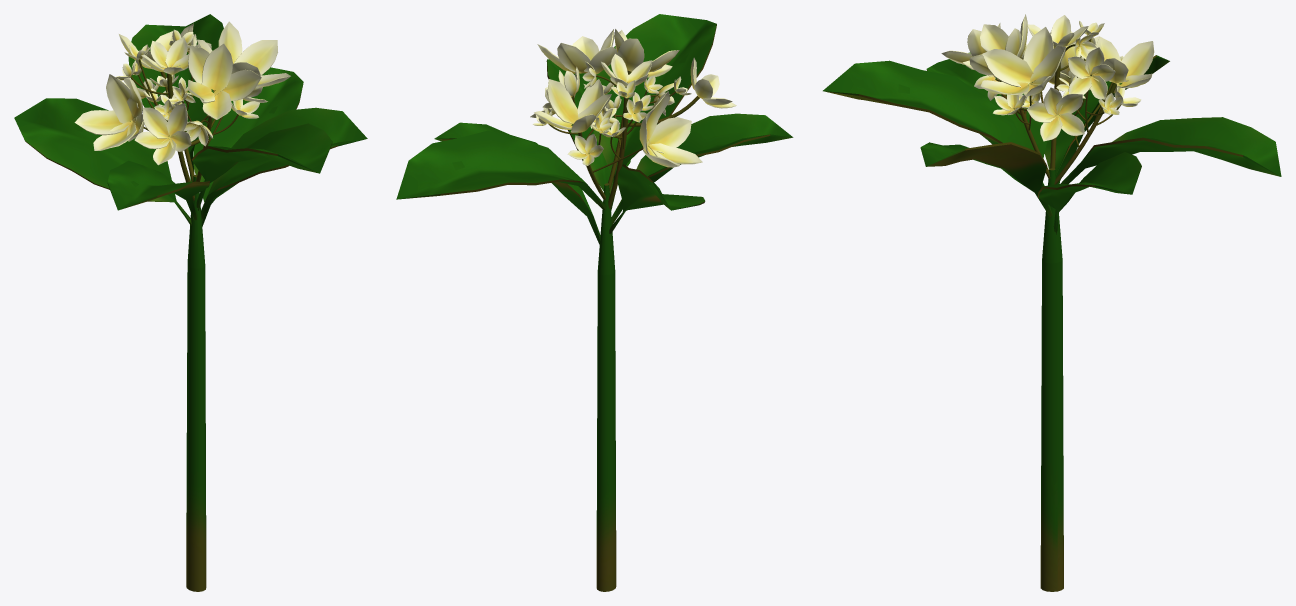
The model's file is flor_de_mayo.fbx.
3 views of the same model, side by side, from view 1: azimuth 30°, elevation 25°; view 2: azimuth 150°, elevation 25°; view 3: azimuth 270°, elevation 25° (orthographic). The views are drawn at different scales.
Visible parts, largest first — view 1: pCylinder22; view 2: pCylinder22; view 3: pCylinder22.
Part boxes in pixels (left/top/right/bottom): pCylinder22: left=14, top=14, right=367, bottom=591; pCylinder22: left=396, top=14, right=793, bottom=591; pCylinder22: left=823, top=14, right=1281, bottom=591.
Bounding box in the file's own units: 45.56 × 89.04 × 65.65.
1 material, 1 textured.
